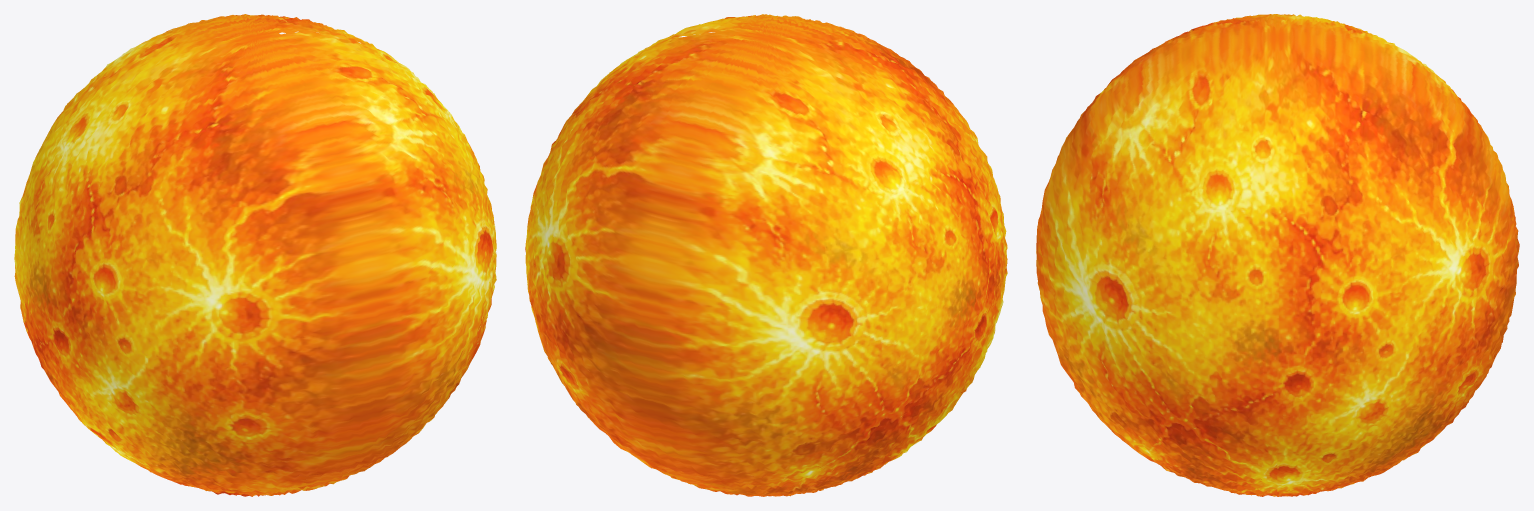
Rendered from sun.glb.
The picture shows the model from 3 angles, left to right: view 1: azimuth 30°, elevation 25°; view 2: azimuth 150°, elevation 25°; view 3: azimuth 270°, elevation 25°; orthographic projection.
Parts seen in each view (by area): view 1: Sun; view 2: Sun; view 3: Sun.
Part boxes in pixels (left/top/right/bottom): Sun: left=14, top=14, right=496, bottom=496; Sun: left=525, top=14, right=1007, bottom=496; Sun: left=1036, top=14, right=1519, bottom=496.
Size of the model in its own units: 2.01 by 2.02 by 2.01.
1 material, 1 textured.
